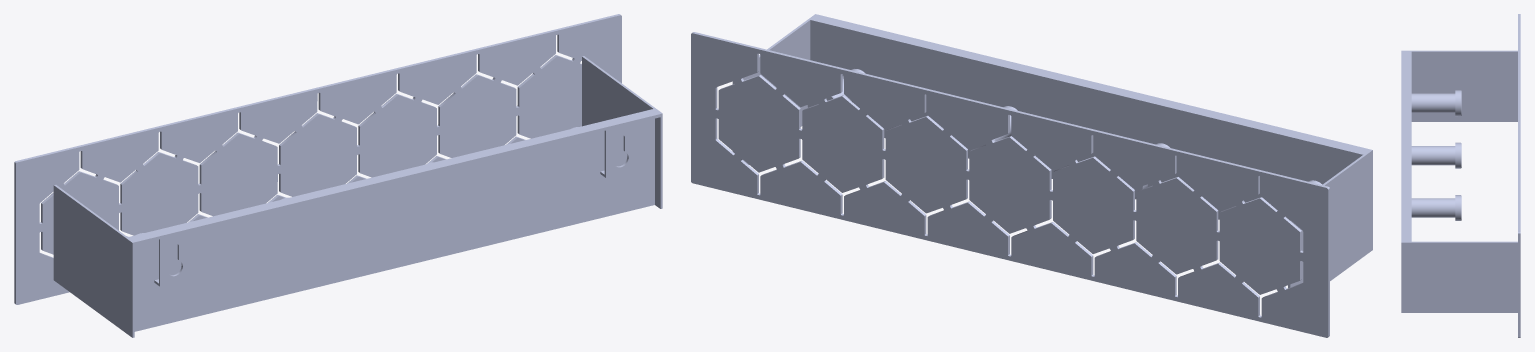
The model's file is bee-hook.a495387d89.glb.
The picture shows the model from 3 angles, left to right: view 1: azimuth 30°, elevation 25°; view 2: azimuth 150°, elevation 25°; view 3: azimuth 270°, elevation 25°; orthographic projection. The views are drawn at different scales.
Visible parts, largest first — view 1: NAUO1; view 2: NAUO1; view 3: NAUO1.
Boxes of the visible parts, left/top/right/bottom form: NAUO1: left=14, top=14, right=662, bottom=337; NAUO1: left=691, top=14, right=1372, bottom=337; NAUO1: left=1401, top=14, right=1520, bottom=337.
Size of the model in its own units: 0.4 by 0.09 by 0.092.
